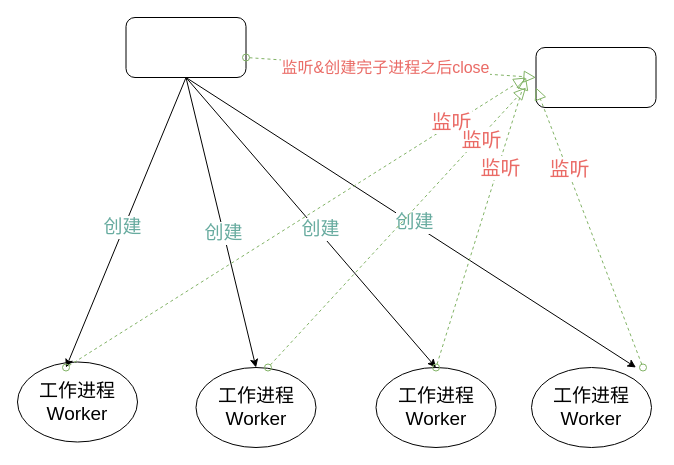
This 674x465 diagram has some shape labels left out. The box of each missing label's shape, as (x1, y1, x2, y2) in pixels:
PORT 端口: (535, 46, 656, 108)
主进程 Master: (125, 16, 246, 78)
